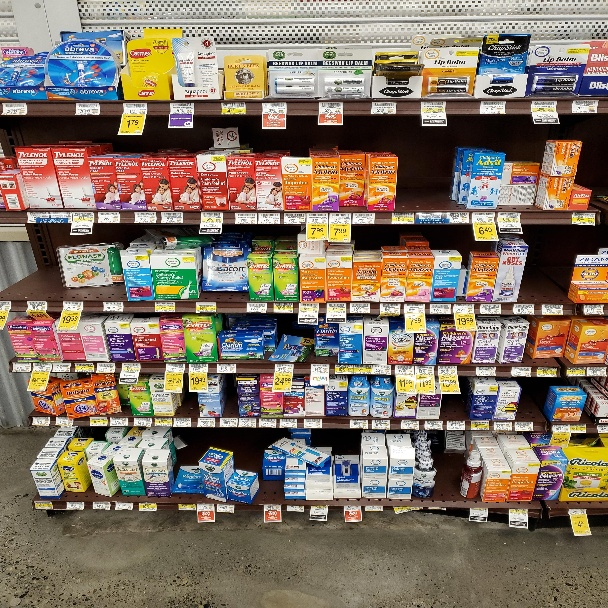All PRICE TAGS: (571, 100, 599, 112), (479, 101, 506, 112), (530, 100, 557, 111), (75, 103, 100, 114), (3, 103, 27, 114), (371, 102, 397, 112), (123, 103, 148, 113), (221, 102, 246, 112), (261, 102, 286, 112), (318, 102, 343, 112), (170, 103, 194, 113), (421, 102, 447, 111), (572, 213, 595, 223), (420, 212, 443, 222), (472, 212, 495, 222), (308, 212, 328, 223), (98, 212, 120, 222), (135, 212, 157, 222), (353, 213, 375, 223), (392, 212, 414, 222), (446, 212, 468, 222), (498, 212, 520, 222), (542, 304, 563, 314), (259, 213, 280, 223), (430, 303, 450, 313), (584, 305, 604, 315), (162, 212, 182, 222), (513, 305, 535, 314), (480, 304, 502, 313), (334, 364, 353, 374), (284, 474, 305, 483), (536, 367, 557, 376), (453, 304, 474, 313), (380, 304, 401, 313), (349, 303, 370, 312), (273, 303, 294, 312), (196, 302, 217, 311), (154, 302, 175, 311), (27, 301, 48, 310), (49, 211, 70, 220), (72, 211, 93, 220), (202, 212, 223, 221), (284, 213, 305, 222), (330, 213, 351, 222), (405, 304, 425, 313), (299, 303, 319, 312), (247, 303, 267, 312), (103, 302, 123, 311), (65, 501, 84, 510), (166, 363, 185, 372), (75, 363, 94, 372), (327, 303, 346, 312), (64, 301, 83, 310), (587, 367, 606, 376), (89, 417, 108, 426), (236, 213, 255, 222), (470, 507, 488, 516), (114, 501, 132, 510), (447, 420, 465, 429), (424, 420, 442, 429), (30, 211, 48, 220), (510, 367, 530, 375), (476, 367, 496, 375), (510, 509, 527, 518), (515, 421, 532, 430), (401, 420, 418, 429), (373, 420, 390, 429), (350, 419, 367, 428), (304, 418, 321, 427), (259, 418, 276, 427), (220, 417, 237, 426), (97, 363, 114, 372), (354, 365, 371, 374), (568, 367, 585, 376), (91, 501, 110, 509), (438, 366, 457, 374), (395, 366, 414, 374), (372, 366, 391, 374), (275, 363, 294, 371), (189, 364, 208, 372), (569, 508, 588, 516), (138, 502, 156, 510), (281, 418, 297, 427), (240, 418, 256, 427), (175, 417, 191, 426), (155, 417, 171, 426), (217, 364, 235, 372), (122, 363, 140, 371), (197, 503, 214, 511), (470, 421, 487, 429), (198, 418, 215, 426), (135, 417, 152, 425), (111, 417, 128, 425), (416, 366, 433, 374), (53, 363, 70, 371), (33, 362, 50, 370), (13, 362, 30, 370), (495, 421, 510, 430), (34, 501, 50, 509), (33, 416, 49, 424), (570, 424, 586, 432), (264, 504, 282, 511), (311, 365, 329, 372), (57, 417, 72, 425), (218, 504, 235, 511), (178, 503, 195, 510), (553, 425, 569, 432), (0, 301, 11, 311), (310, 506, 328, 512), (394, 506, 411, 512), (286, 505, 303, 511), (365, 506, 382, 511), (344, 506, 360, 511), (598, 425, 608, 432)
